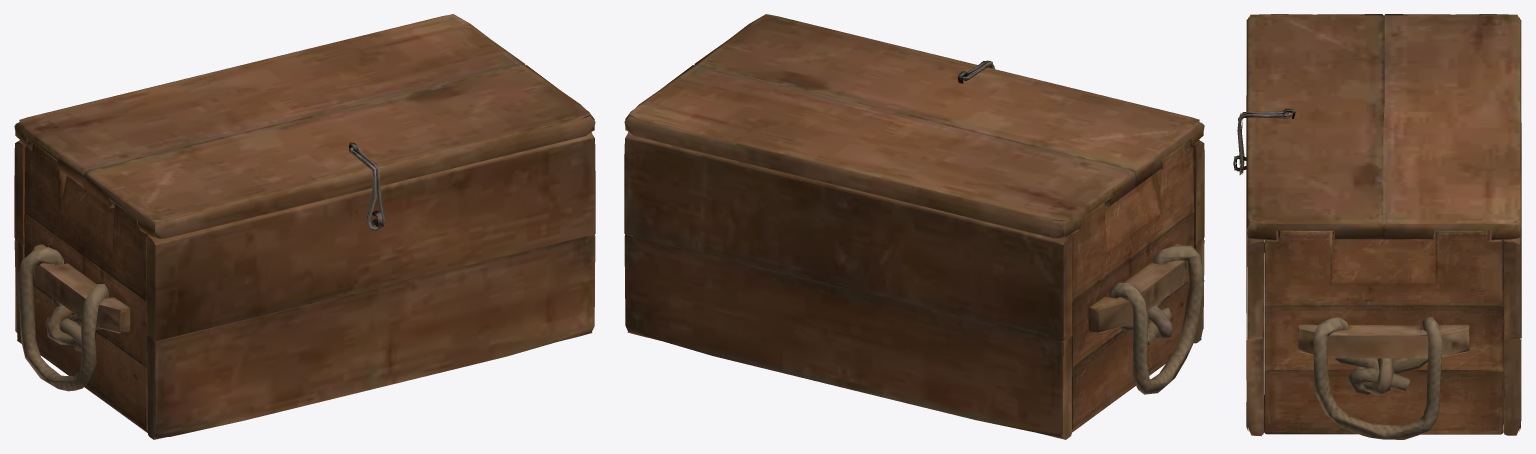
File: wooden_crate_01.glb
3 views of the same model, side by side, from view 1: azimuth 30°, elevation 25°; view 2: azimuth 150°, elevation 25°; view 3: azimuth 270°, elevation 25° (orthographic). The views are drawn at different scales.
Visible parts, largest first — view 1: wooden_crate_01, wooden_crate_01_lid, wooden_crate_01_latch; view 2: wooden_crate_01, wooden_crate_01_lid; view 3: wooden_crate_01_lid, wooden_crate_01, wooden_crate_01_latch.
Boxes of the visible parts, left/top/right/bottom form: wooden_crate_01: left=14, top=132, right=595, bottom=439; wooden_crate_01_lid: left=14, top=14, right=595, bottom=238; wooden_crate_01_latch: left=349, top=147, right=384, bottom=230; wooden_crate_01: left=624, top=132, right=1204, bottom=439; wooden_crate_01_lid: left=624, top=14, right=1204, bottom=238; wooden_crate_01_lid: left=1246, top=14, right=1521, bottom=240; wooden_crate_01: left=1233, top=95, right=1521, bottom=439; wooden_crate_01_latch: left=1237, top=111, right=1292, bottom=175.
Size of the model in its own units: 0.8247 by 0.3482 by 0.4078.
Materials: 1 (1 with a texture image).
